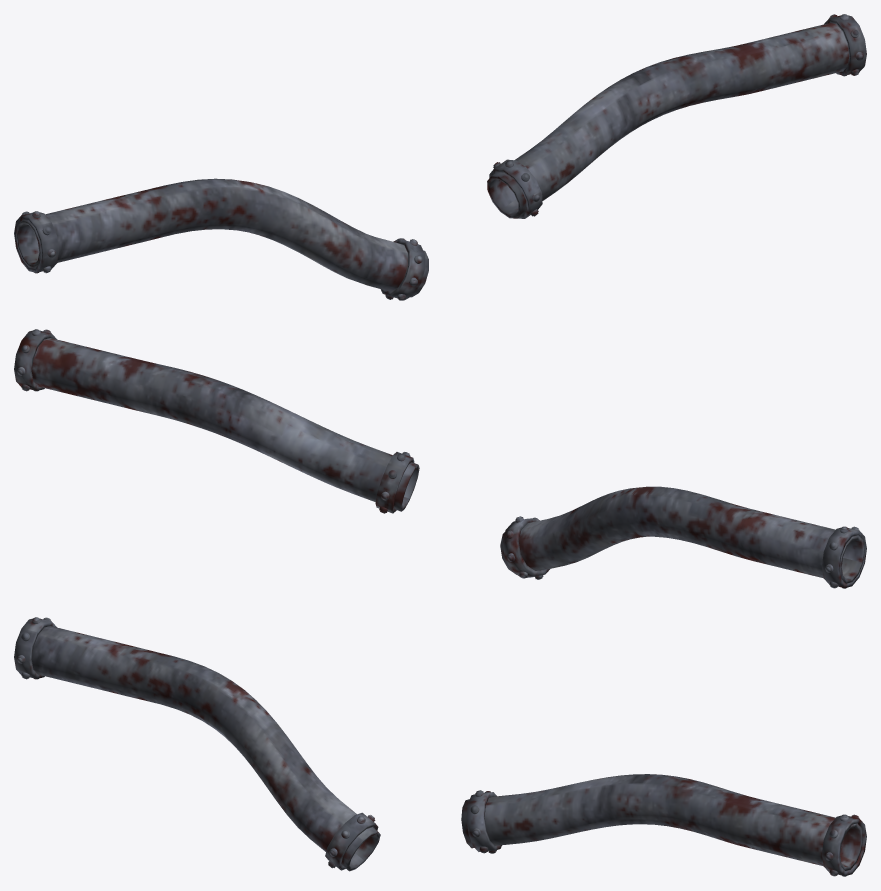
File: large pipe broken.fbx
The picture shows the model from 3 angles, top to bottom: view 1: azimuth 30°, elevation 25°; view 2: azimuth 150°, elevation 25°; view 3: azimuth 330°, elevation 25°; orthographic projection.
Visible parts, largest first — view 1: NurbsPath.001; view 2: NurbsPath.001; view 3: NurbsPath.001.
Boxes of the visible parts, x1,y1,x2,y2 form: NurbsPath.001: [14, 14, 866, 300]; NurbsPath.001: [14, 329, 866, 588]; NurbsPath.001: [14, 617, 866, 876].
Size of the model in its own units: 1681 by 292 by 205.
